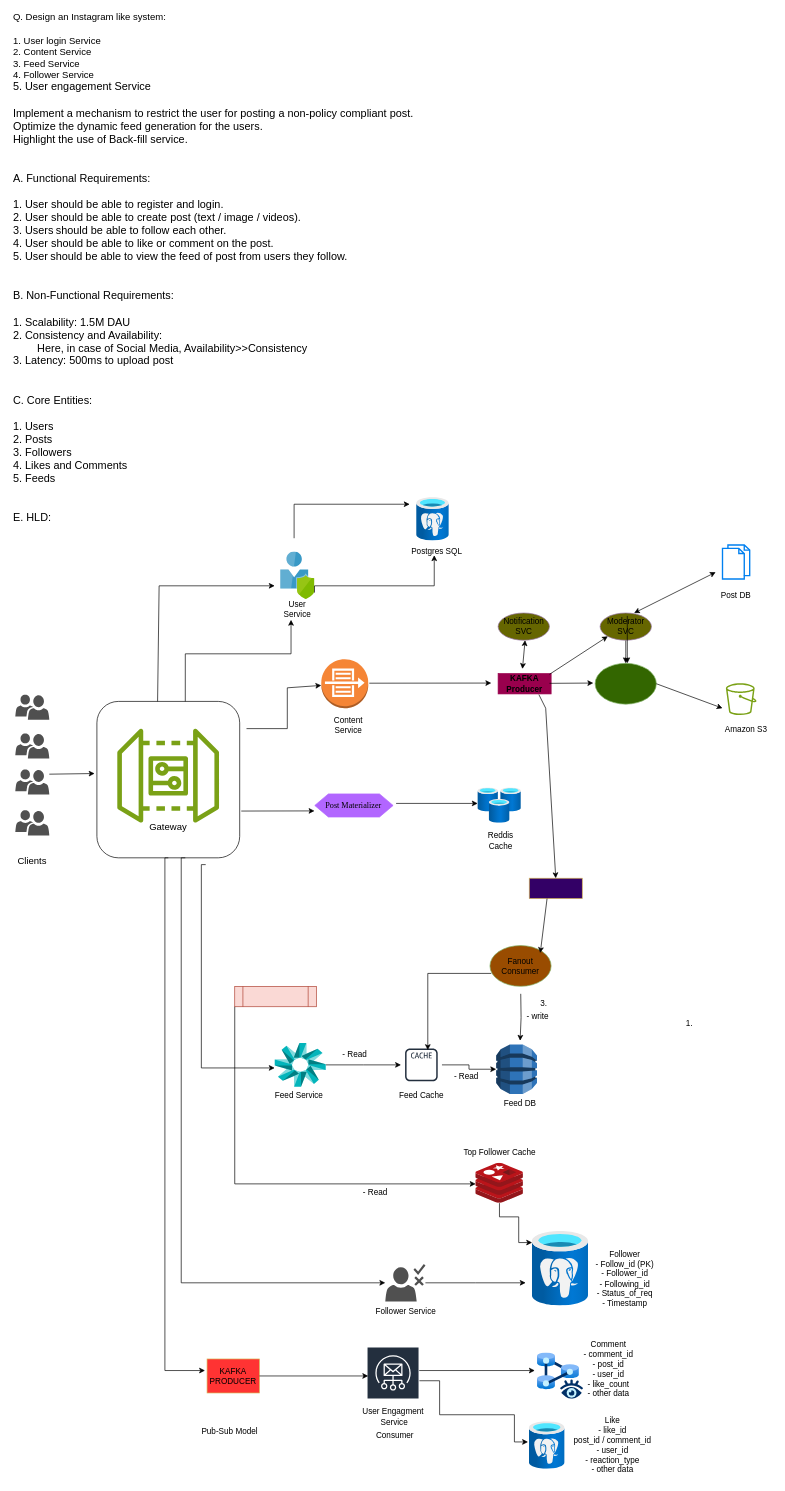
This 785x1491 diagram has some shape labels left out. The shapes that lost their labels are listed below. From the top down, each one's centre as x and y in pixels, then its label:
At (x=625, y=683): "Post Consumer SVC".
At (x=555, y=888): "KAFKA".
At (x=275, y=996): "BackFill".
